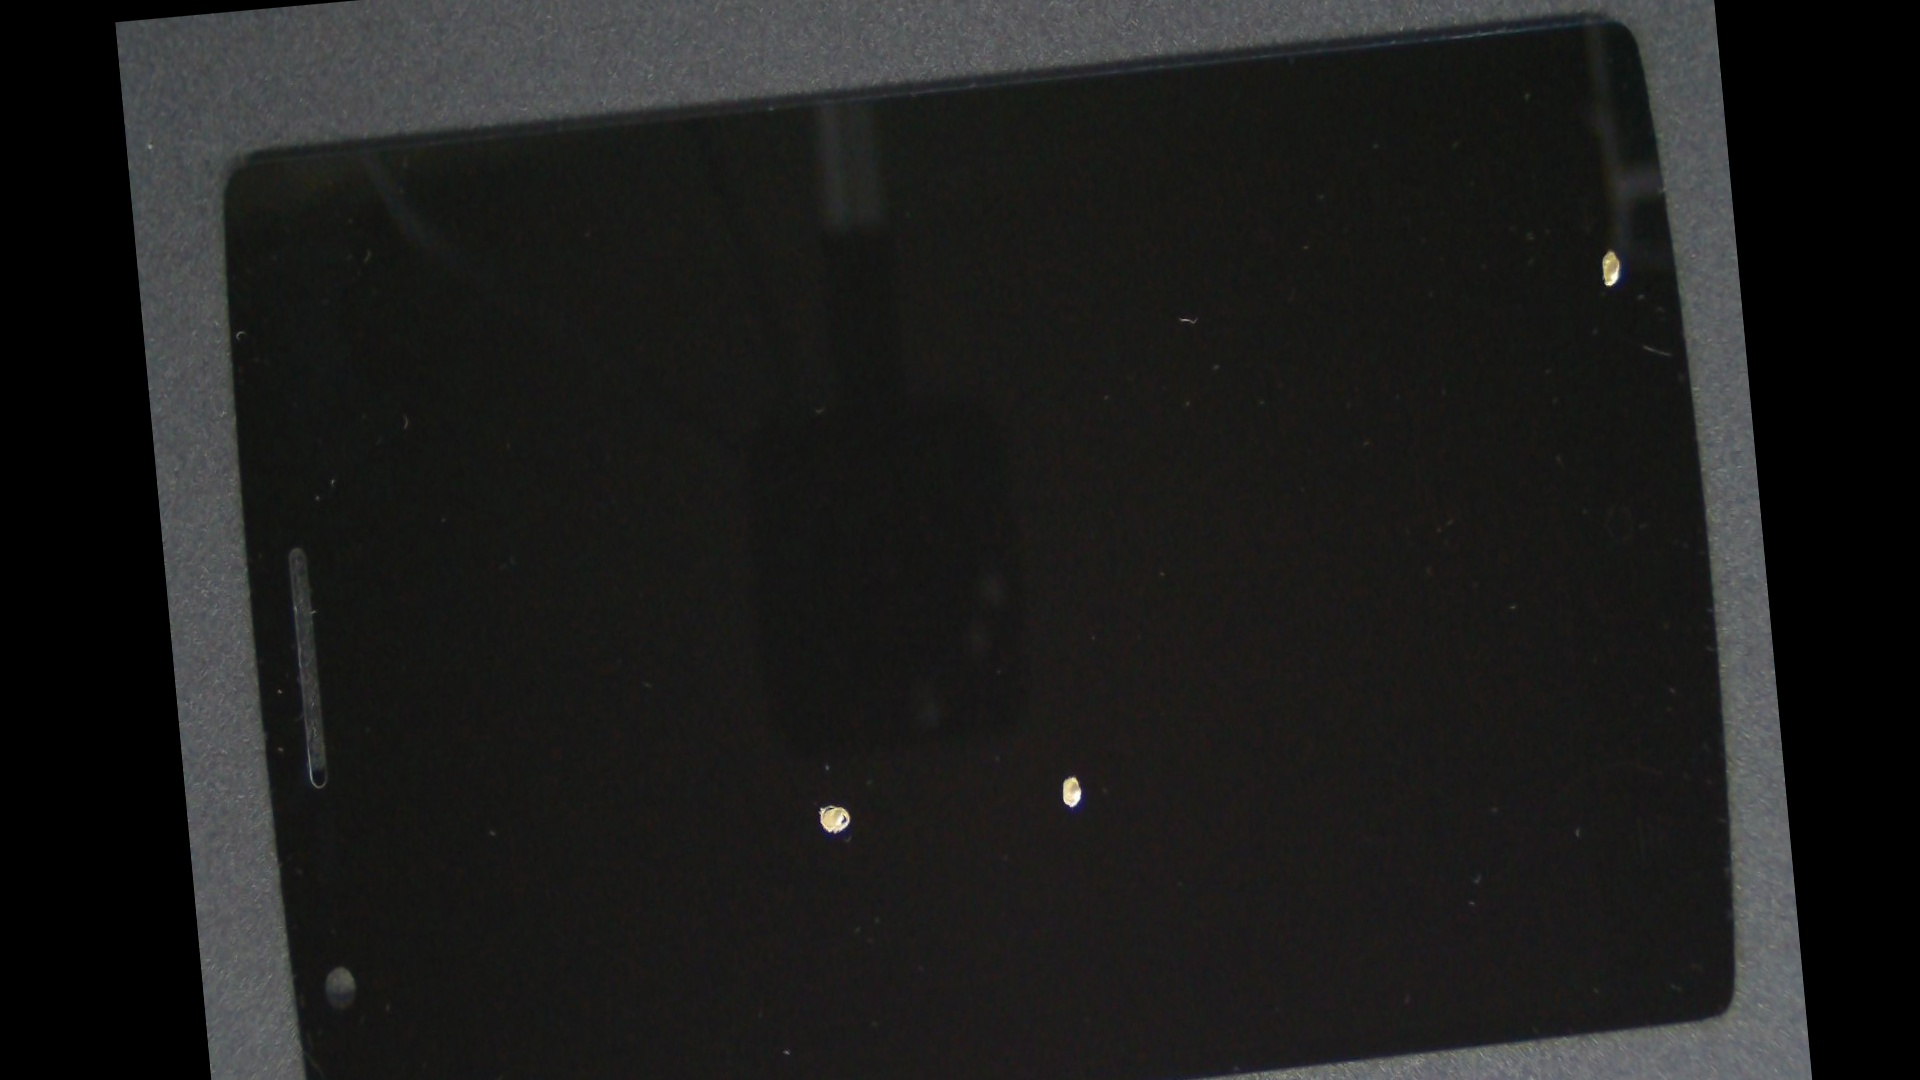oil: (592, 318, 1545, 1080), (471, 355, 1182, 1080), (862, 55, 1753, 495)
